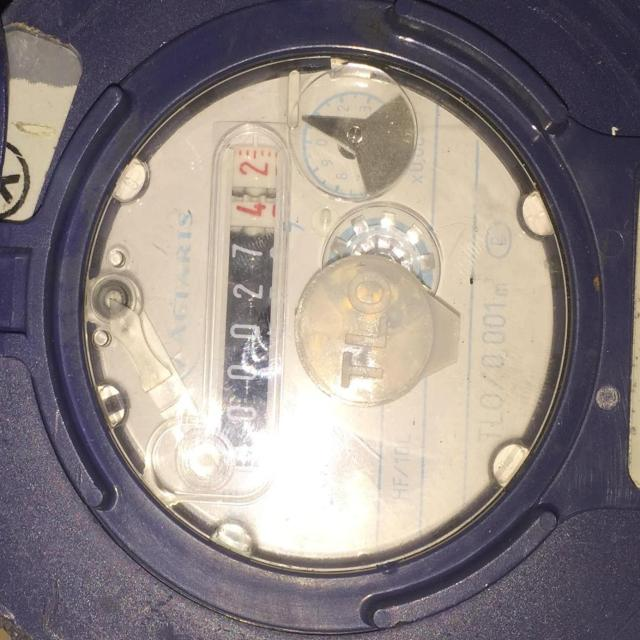gaz_meter: (68, 47, 589, 575)
indication: (219, 145, 286, 433)
